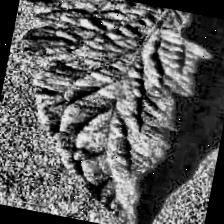leaf mold: (0, 0, 215, 224)
